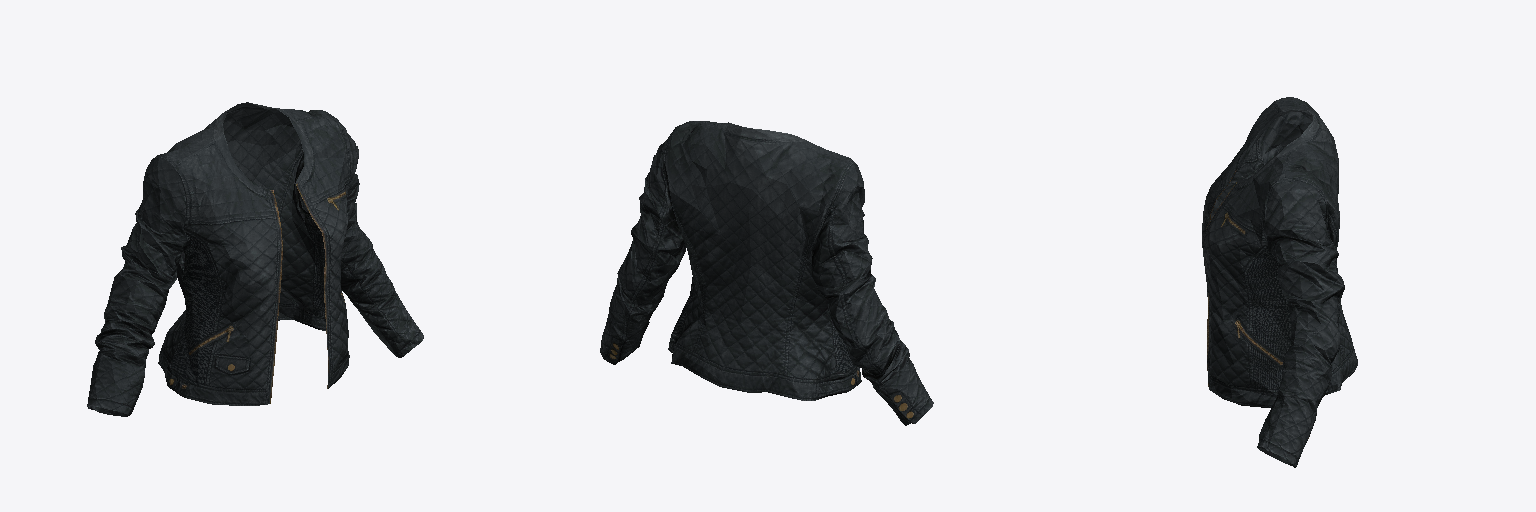
3 renders of one model, left to right at view 1: azimuth 30°, elevation 25°; view 2: azimuth 150°, elevation 25°; view 3: azimuth 270°, elevation 25°, orthographic.
Visible parts, largest first — view 1: jacket_black; view 2: jacket_black; view 3: jacket_black.
Part boxes in pixels (x1,y1,x2,y2): jacket_black: (87, 102, 423, 416); jacket_black: (600, 121, 933, 425); jacket_black: (1202, 97, 1357, 467).
Bounding box in the file's own units: 0.7563 × 0.6124 × 0.3083.
Materials: 1 (1 with a texture image).